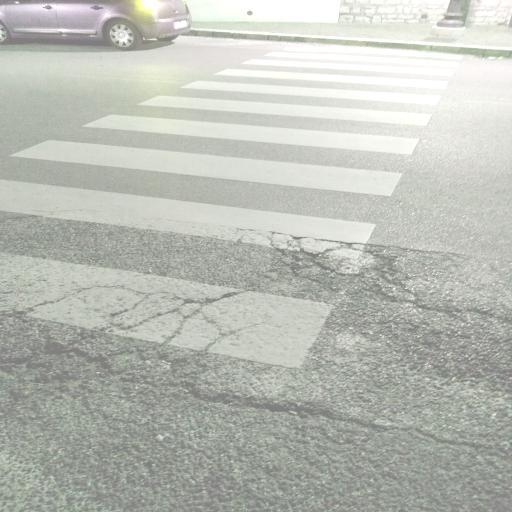crosswalk: (6, 110, 426, 206), (205, 52, 459, 92)
